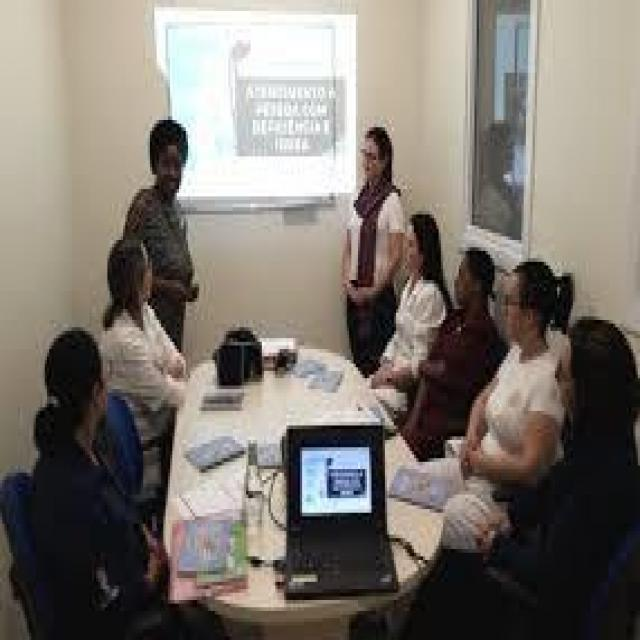person: (25, 306, 179, 636), (530, 302, 638, 629), (488, 229, 575, 484), (96, 207, 184, 433), (132, 87, 201, 313), (434, 200, 497, 447), (349, 102, 398, 374), (390, 200, 448, 367)
